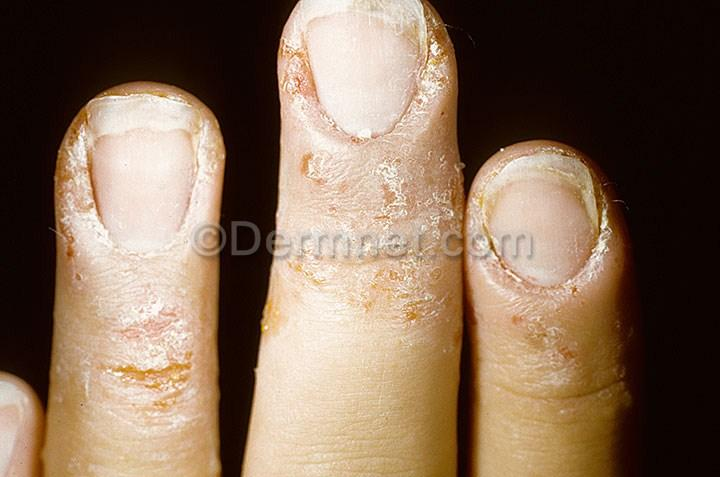Eczema: (116, 358, 200, 409), (74, 404, 133, 457), (51, 300, 110, 353), (111, 305, 186, 344), (411, 163, 459, 223), (118, 338, 206, 370), (411, 253, 454, 314), (541, 323, 584, 381), (314, 225, 367, 270), (131, 407, 188, 448), (354, 167, 404, 213), (368, 227, 418, 273), (313, 271, 365, 315), (71, 351, 118, 399), (55, 203, 96, 258), (412, 105, 454, 158), (299, 152, 349, 196), (472, 310, 505, 375), (54, 158, 95, 210), (503, 317, 554, 358), (601, 357, 638, 412), (291, 102, 333, 150), (366, 271, 404, 323), (427, 52, 464, 102), (107, 276, 190, 298), (279, 135, 304, 207), (566, 365, 601, 416), (64, 249, 102, 295), (185, 290, 214, 349), (279, 243, 321, 281), (306, 198, 352, 231), (360, 218, 424, 241), (379, 135, 408, 184), (181, 250, 219, 287), (119, 258, 191, 277), (278, 204, 317, 239), (601, 312, 642, 345), (400, 290, 432, 328), (284, 42, 311, 87), (579, 273, 615, 306), (420, 223, 454, 257), (258, 299, 292, 333), (476, 272, 511, 304), (514, 282, 548, 314), (282, 89, 320, 116), (545, 290, 580, 319), (340, 145, 382, 168), (601, 213, 623, 253), (280, 285, 317, 308), (201, 123, 219, 168), (193, 215, 219, 246), (100, 256, 127, 285), (536, 145, 579, 163), (198, 175, 221, 208), (598, 250, 624, 278), (430, 7, 447, 48), (469, 202, 490, 235), (470, 237, 495, 264), (599, 176, 614, 213), (486, 156, 504, 182), (159, 92, 184, 109), (64, 128, 76, 159), (402, 113, 415, 138)
